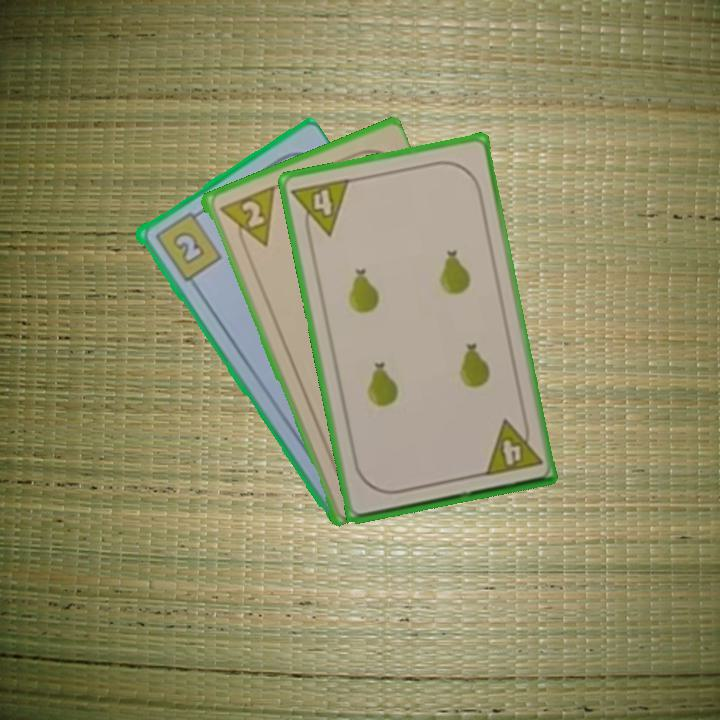2b: (150, 206, 224, 284)
2p: (215, 182, 277, 255)
4p: (288, 174, 353, 242), (480, 413, 545, 479)
